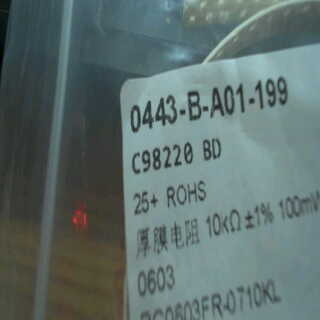10kR: (199, 205, 242, 244)
